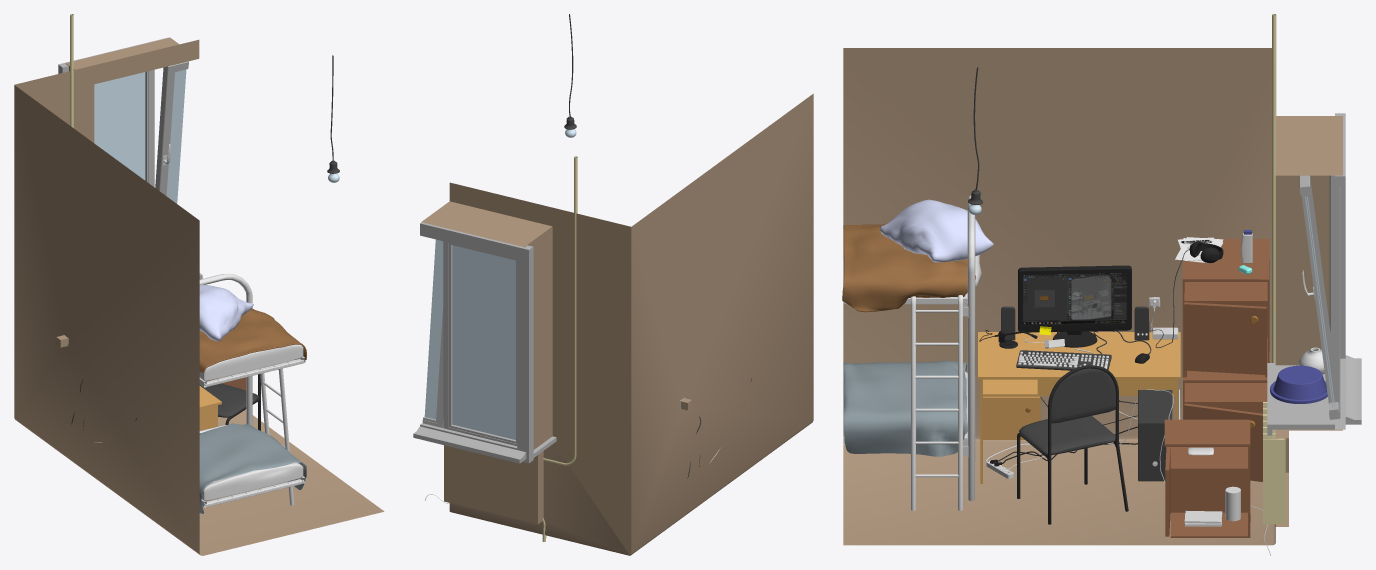
Rendered from workplace_xyz_sketchfab.fbx.
3 views of the same model, side by side, from view 1: azimuth 30°, elevation 25°; view 2: azimuth 150°, elevation 25°; view 3: azimuth 270°, elevation 25° (orthographic). The views are drawn at different scales.
Visible parts, largest first — view 1: base, glass.001, Plane.002, blanket, pillow, QBlock.020, QBlock.012, Window Panel, glass, Window Panel.001, chair_seat, ladder (+4 smaller); view 2: base, glass.001, Window, Window Panel.001, glass, QBlock.019, Window Panel; view 3: base, Plane.002, night_stand, table, blanket, nightstand_door.002, monitor, Window, night_stand.002, pillow, ladder, night_stand.001 (+18 smaller).
Part boxes in pixels (x1,y1,x2,y2): base: (14, 37, 384, 555); glass.001: (94, 72, 145, 180); Plane.002: (150, 423, 306, 513); blanket: (199, 308, 306, 372); pillow: (199, 284, 253, 341); QBlock.020: (201, 462, 303, 501); QBlock.012: (199, 344, 303, 381); Window Panel: (155, 61, 188, 195); glass: (166, 69, 186, 203); Window Panel.001: (145, 69, 154, 187); chair_seat: (199, 381, 259, 417); ladder: (260, 368, 294, 505); base: (421, 93, 813, 555); glass.001: (452, 245, 515, 439); Window: (413, 222, 556, 463); Window Panel.001: (443, 241, 517, 445); glass: (424, 239, 443, 419); QBlock.019: (543, 156, 577, 465); Window Panel: (422, 307, 443, 427); base: (843, 48, 1342, 545); Plane.002: (843, 360, 966, 456); night_stand: (1164, 419, 1250, 537); table: (978, 332, 1180, 483); blanket: (842, 223, 976, 312); nightstand_door.002: (1184, 302, 1266, 374); monitor: (1022, 273, 1126, 324); Window: (1267, 113, 1361, 435); night_stand.002: (1182, 239, 1269, 377); pillow: (880, 199, 993, 262); ladder: (911, 295, 962, 510); night_stand.001: (1183, 370, 1267, 419).
Bounding box in the file's own units: 255 × 463 × 447.
22 materials, 3 textured.
